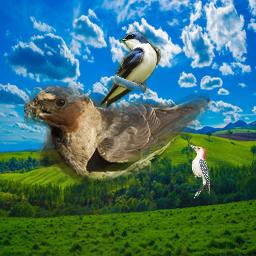Swallow: (24, 85, 213, 187), (98, 31, 161, 108)
Woodpecker: (188, 144, 210, 199)
